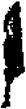Reed: (1, 3, 25, 109)
